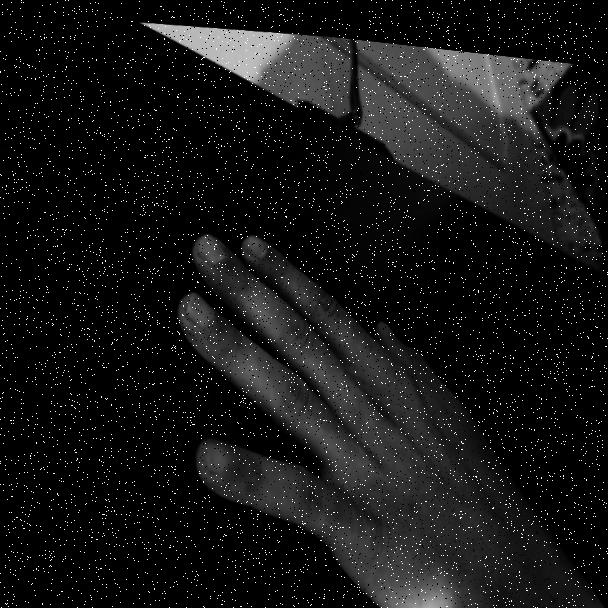five: (166, 175, 512, 608)
